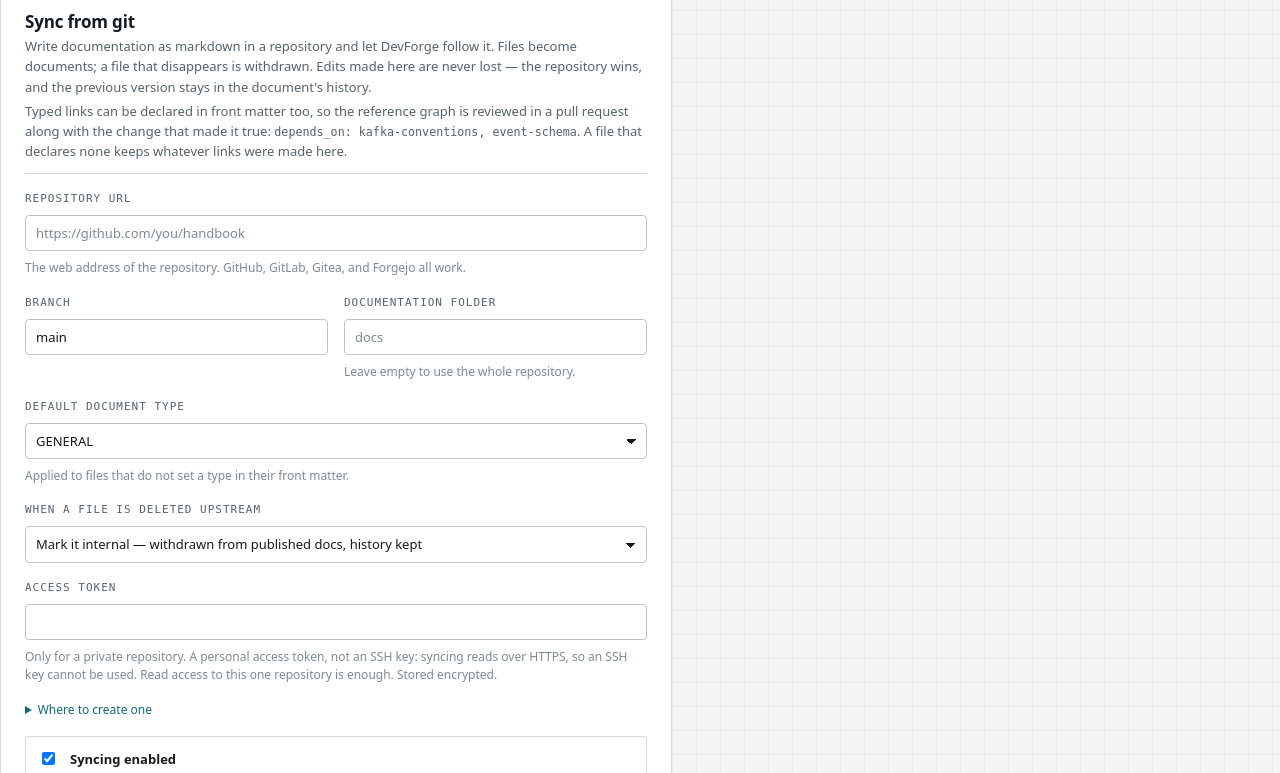
Test case: GitSyncPanel › puts a rejected field beside the input that caused it
Type "git@github.com:a/b.git" into the field labelled "Repository URL" at (336, 233), box [25,215,647,251]
(page scrolled)
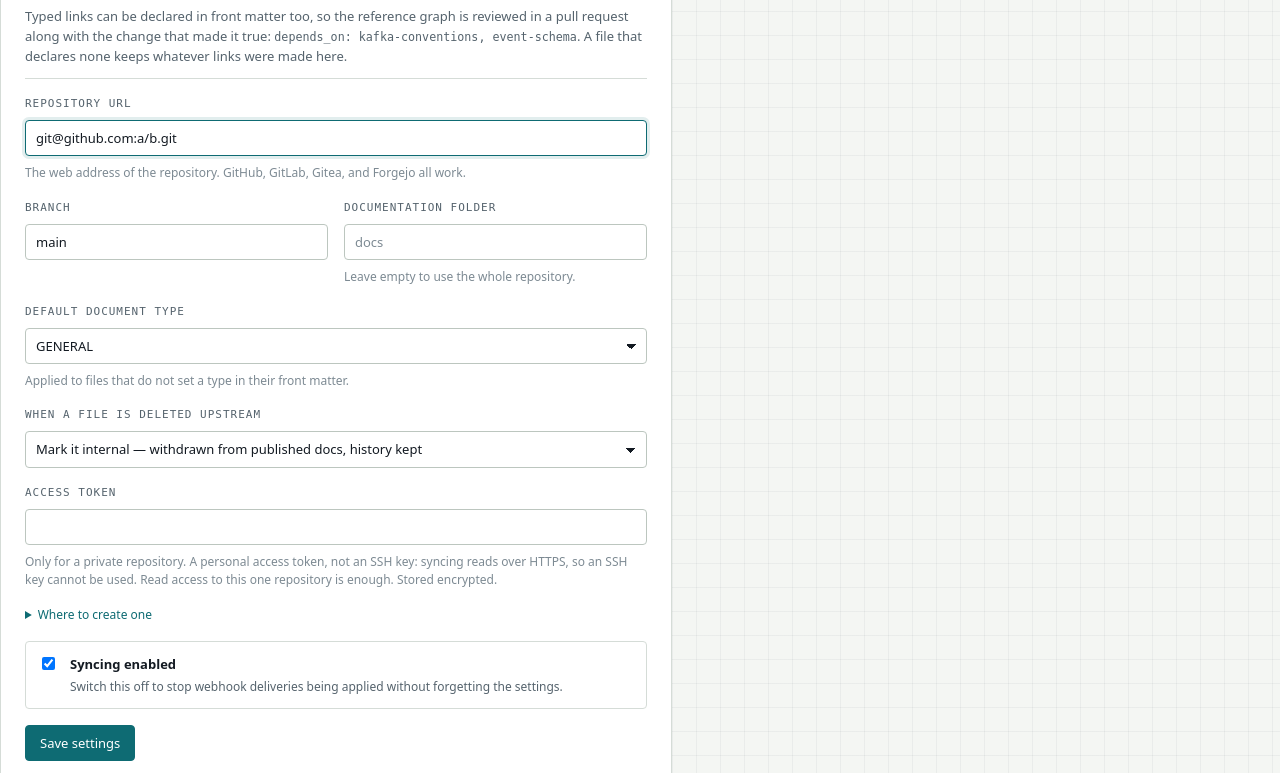
Click the button "Save settings" at (80, 743), box [25,725,135,761]
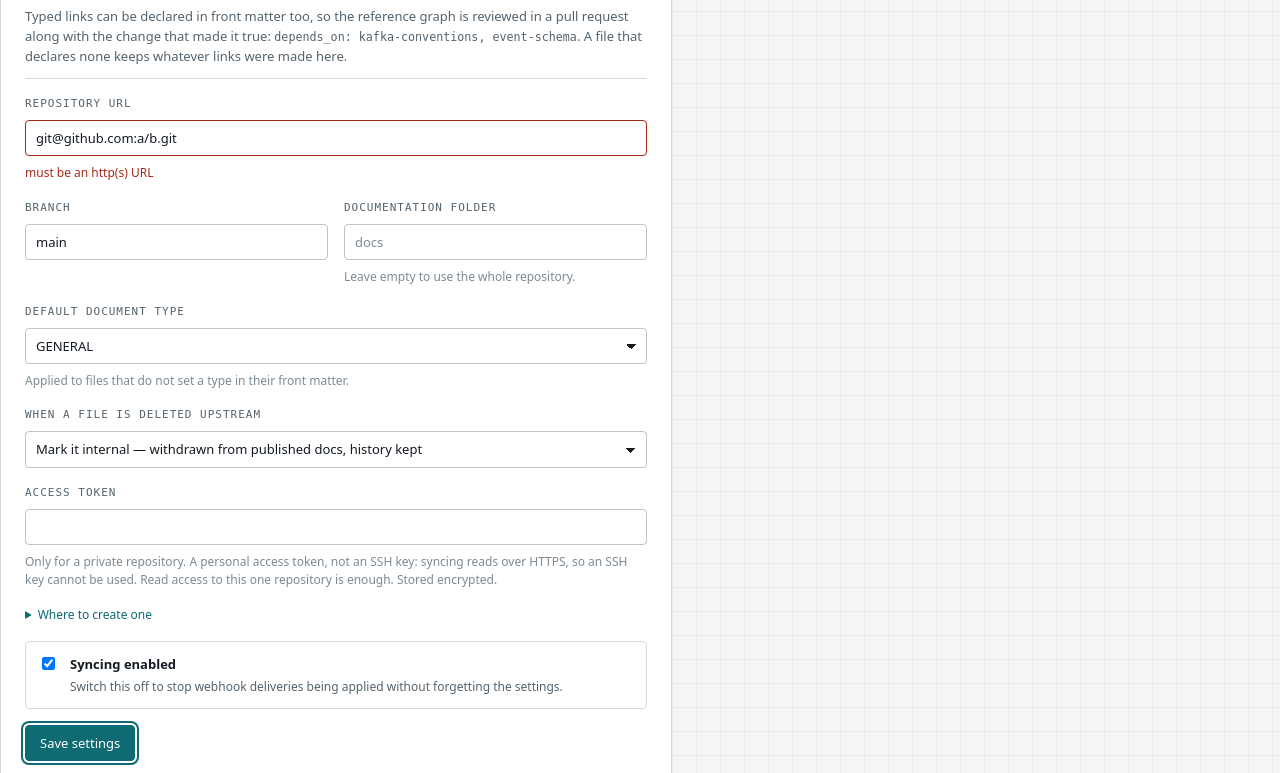
Result: the text "must be an http(s) URL" is shown at [25,164,153,181]
